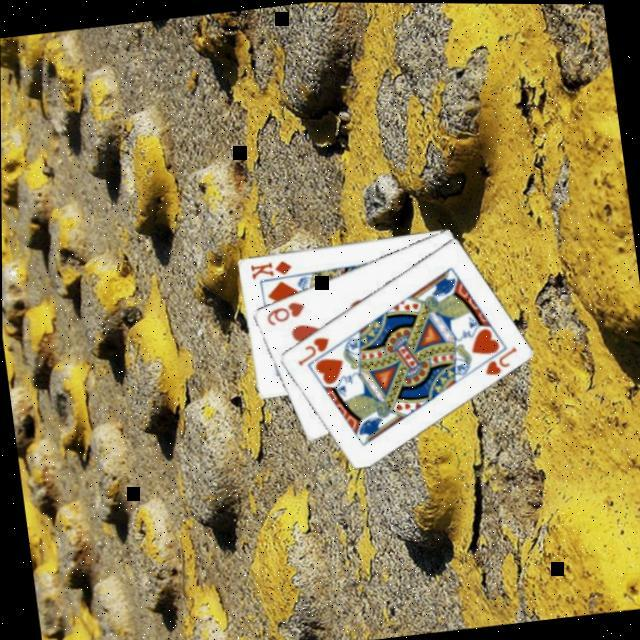6H: (260, 294, 306, 326)
JH: (288, 330, 332, 367), (476, 339, 520, 376)
KD: (244, 253, 294, 280)
